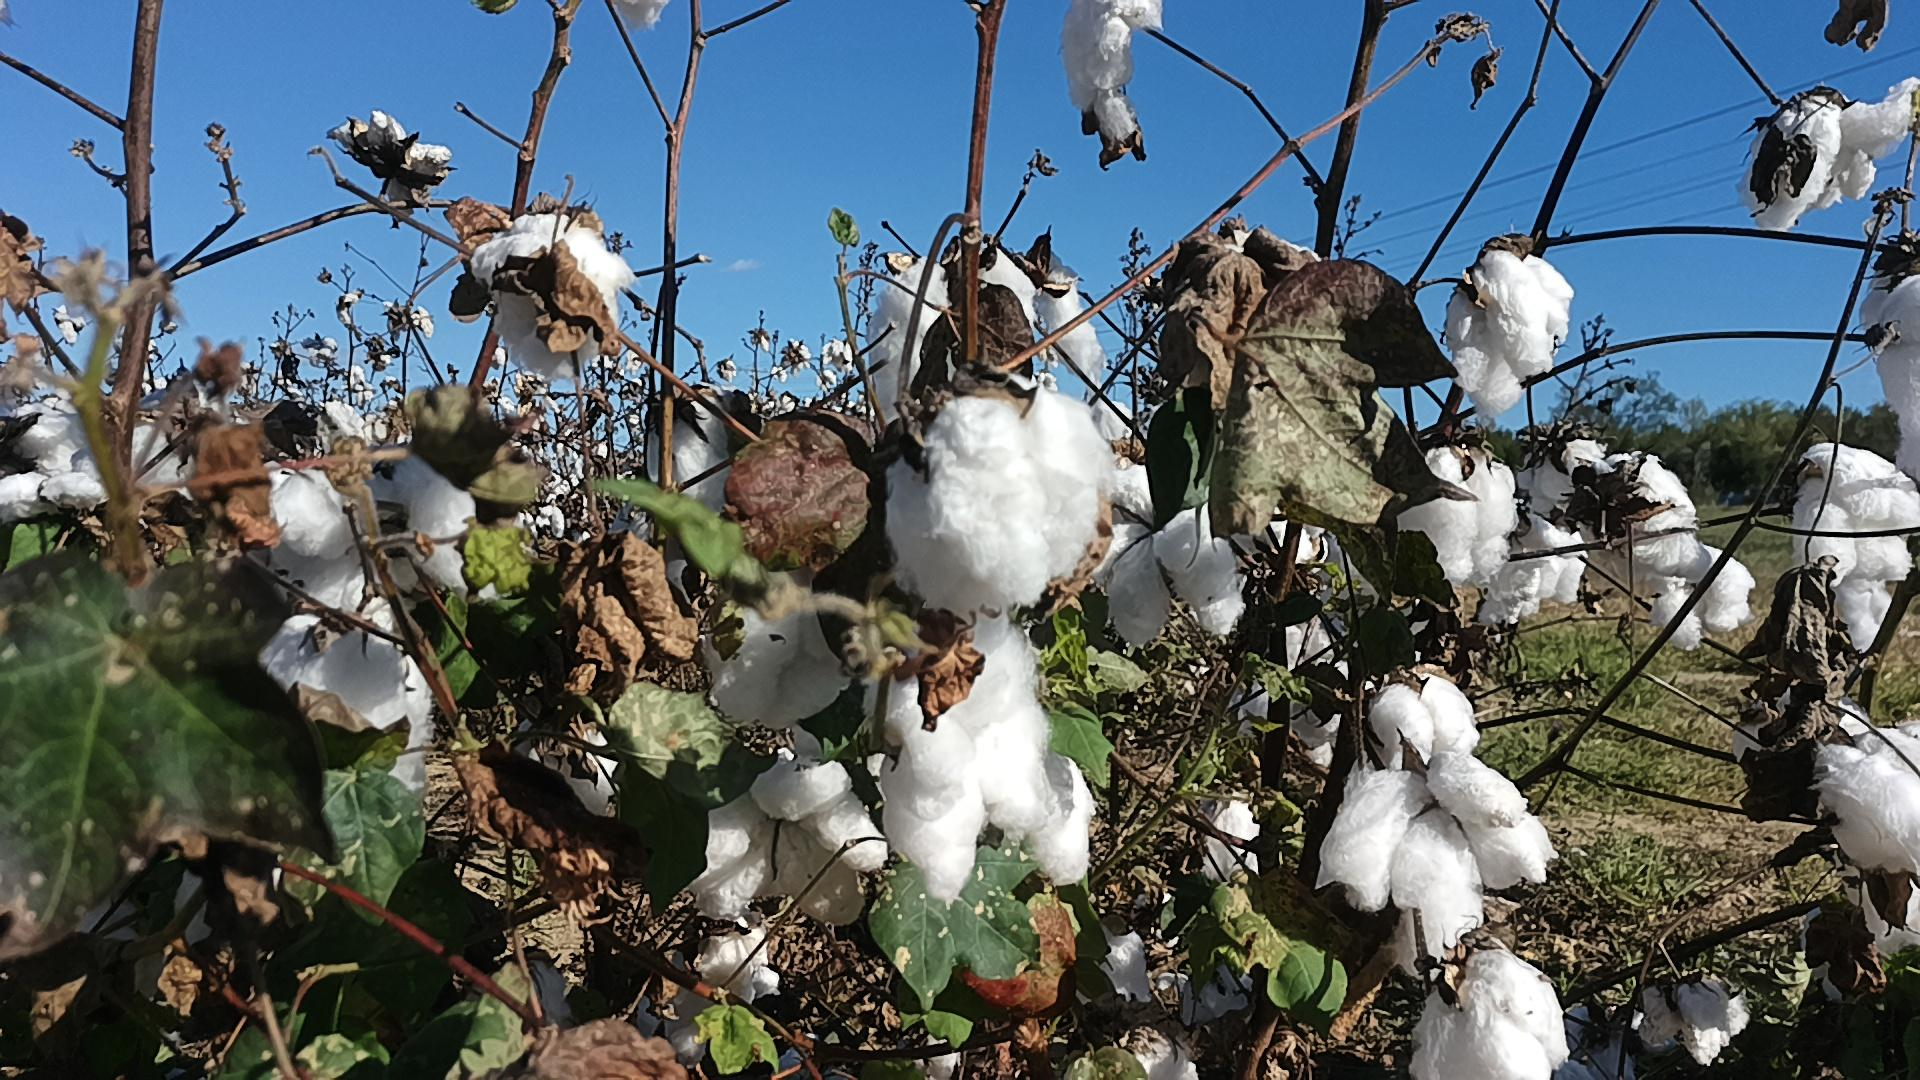cotton_ready: (878, 608, 1098, 901), (884, 376, 1118, 617), (1316, 756, 1553, 961), (256, 555, 438, 783), (684, 750, 890, 923), (1743, 75, 1920, 235), (1797, 440, 1920, 655), (468, 218, 630, 375), (1096, 460, 1233, 644), (0, 404, 198, 524), (704, 575, 851, 731), (1444, 251, 1576, 419), (1407, 945, 1571, 1080), (368, 455, 498, 603), (1801, 720, 1920, 874), (1394, 446, 1518, 582), (1234, 613, 1358, 749), (864, 251, 957, 419), (1577, 455, 1702, 579), (1804, 868, 1920, 1001), (1058, 0, 1166, 142), (66, 861, 228, 951), (642, 388, 741, 513), (1476, 516, 1588, 625), (1367, 673, 1486, 775), (240, 465, 357, 564), (510, 723, 622, 823), (1654, 549, 1758, 647), (1635, 976, 1753, 1060), (1874, 265, 1920, 477), (330, 113, 458, 187), (1514, 435, 1613, 520), (688, 923, 778, 1009), (1034, 268, 1101, 375), (1077, 923, 1158, 1010), (632, 982, 715, 1065), (1185, 793, 1261, 882), (968, 243, 1038, 335), (1233, 502, 1327, 570), (1104, 1026, 1211, 1080), (1178, 960, 1257, 1029)
